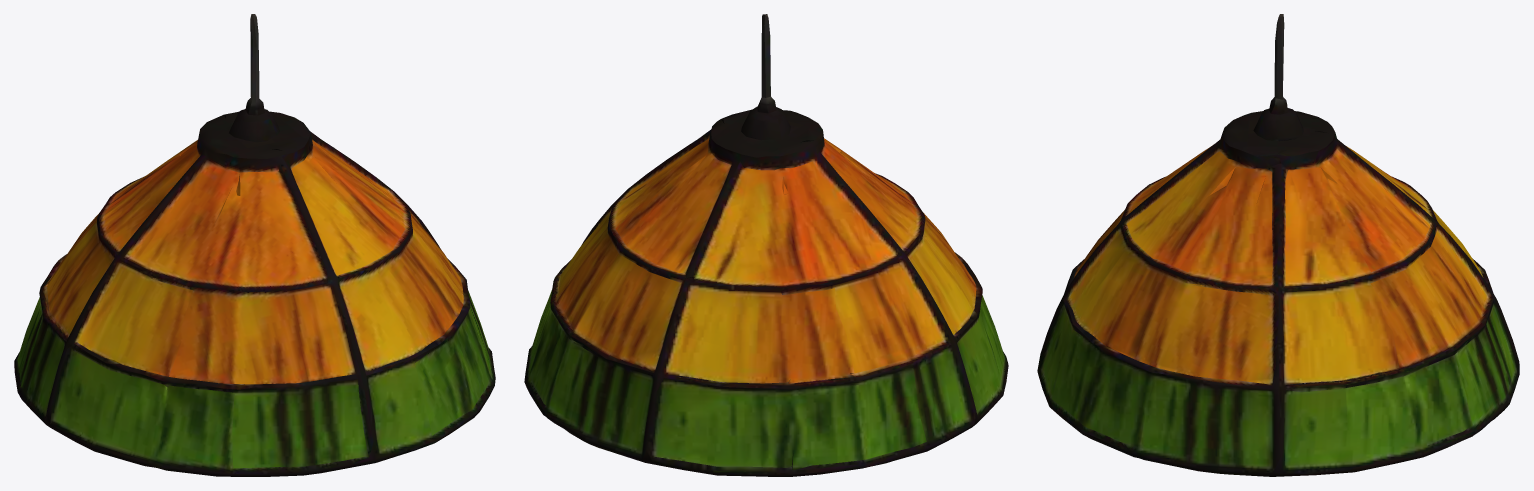
Rendered from lamp.glb.
3 renders of one model, left to right at view 1: azimuth 30°, elevation 25°; view 2: azimuth 150°, elevation 25°; view 3: azimuth 270°, elevation 25°, orthographic.
Parts seen in each view (by area): view 1: lamp; view 2: lamp; view 3: lamp.
Boxes of the visible parts, left/top/right/bottom form: lamp: left=14, top=14, right=495, bottom=476; lamp: left=524, top=14, right=1008, bottom=476; lamp: left=1037, top=14, right=1519, bottom=476.
Size of the model in its own units: 0.434 by 0.36 by 0.4338.
1 material, 1 textured.
